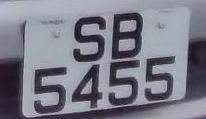4: (68, 61, 109, 114)
5: (102, 56, 148, 109), (28, 62, 72, 116), (141, 50, 178, 108)
B: (108, 7, 148, 61)
S: (64, 7, 110, 66)
